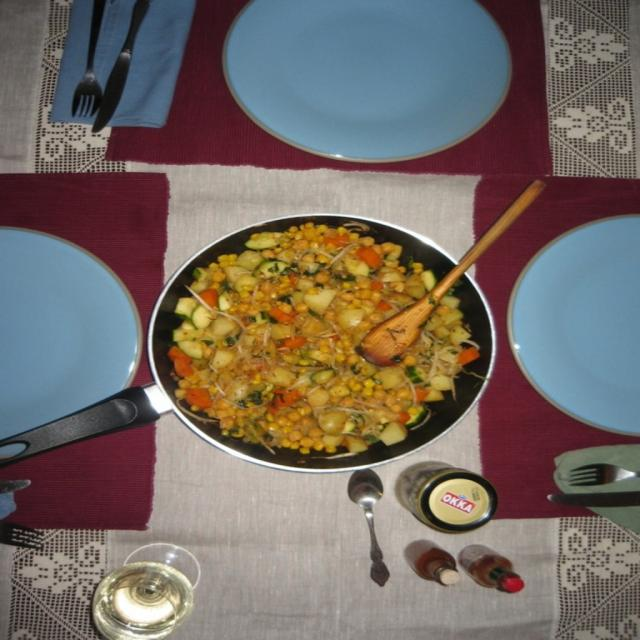non-organic waste: (157, 212, 495, 472), (209, 0, 538, 172), (0, 209, 144, 467), (517, 219, 640, 442)
